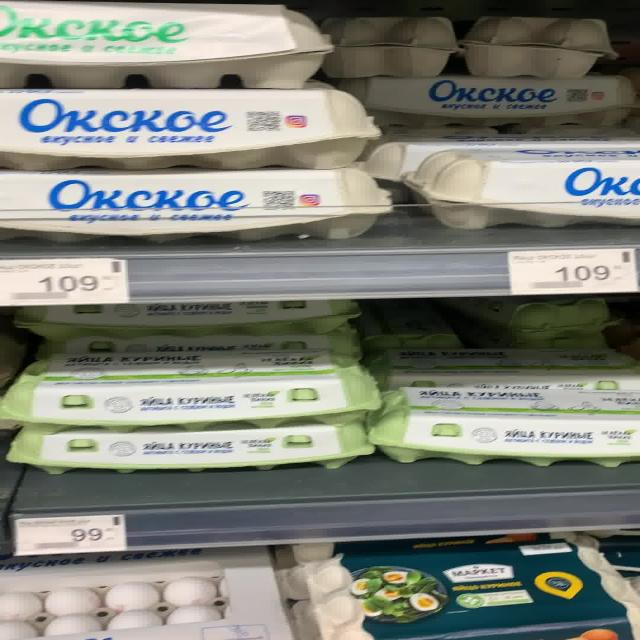egg box: (4, 84, 382, 172), (2, 164, 395, 248), (294, 542, 633, 636), (2, 350, 383, 428), (0, 1, 334, 88), (366, 384, 634, 468), (350, 72, 638, 139), (5, 420, 376, 472)
